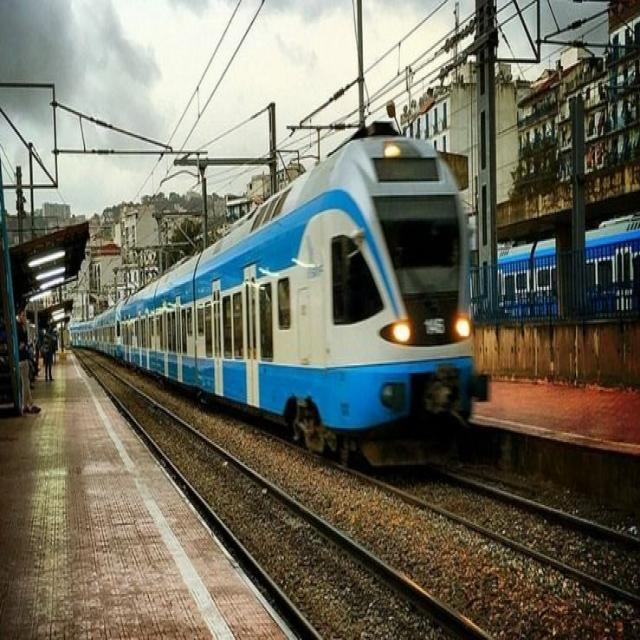Train: (87, 176, 456, 404)
column: (477, 12, 511, 355), (564, 70, 594, 372)
